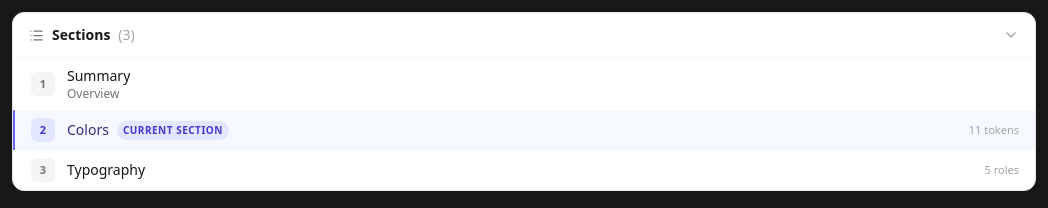
Test: ArtifactOutlineNav › exposes aria-expanded on the collapsible header and toggles it
What coordinates should you click on to do the following:
click the button "Sections (3)"
I would click on:
 (81, 34)
Its box is [13, 13, 1035, 57].
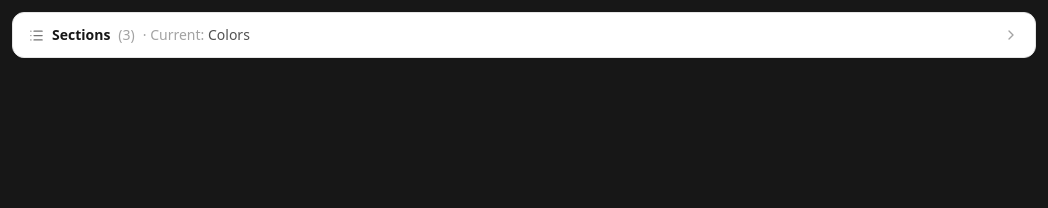
Expected: the button "Sections (3) · Current: Colors" is collapsed, [13, 13, 1035, 57]
